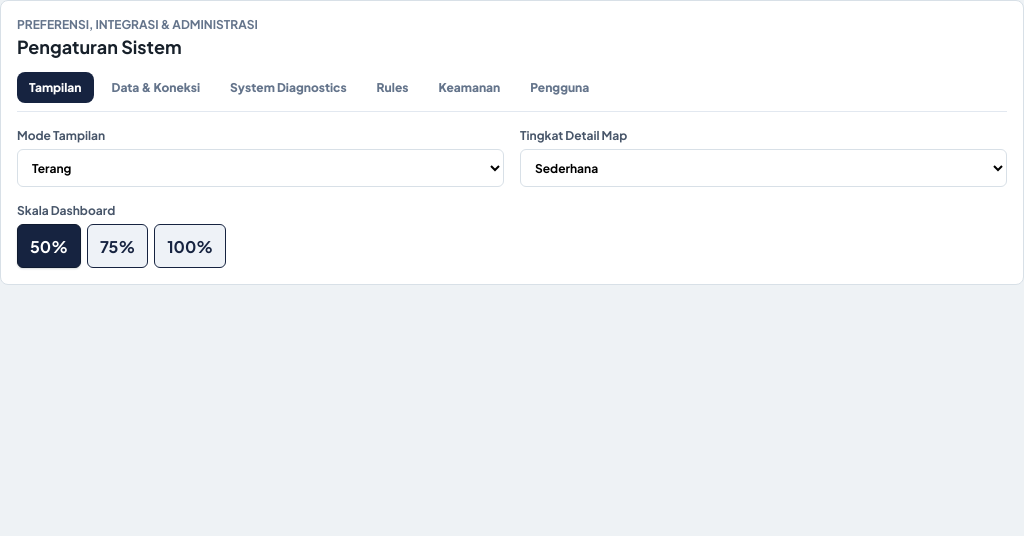
Test: SettingsPanel › shows device sessions and admin audit activity in the security tab
This screenshot has width=1024, height=536.
Click the tab "Keamanan".
click(469, 88)  # box [426,72,512,103]
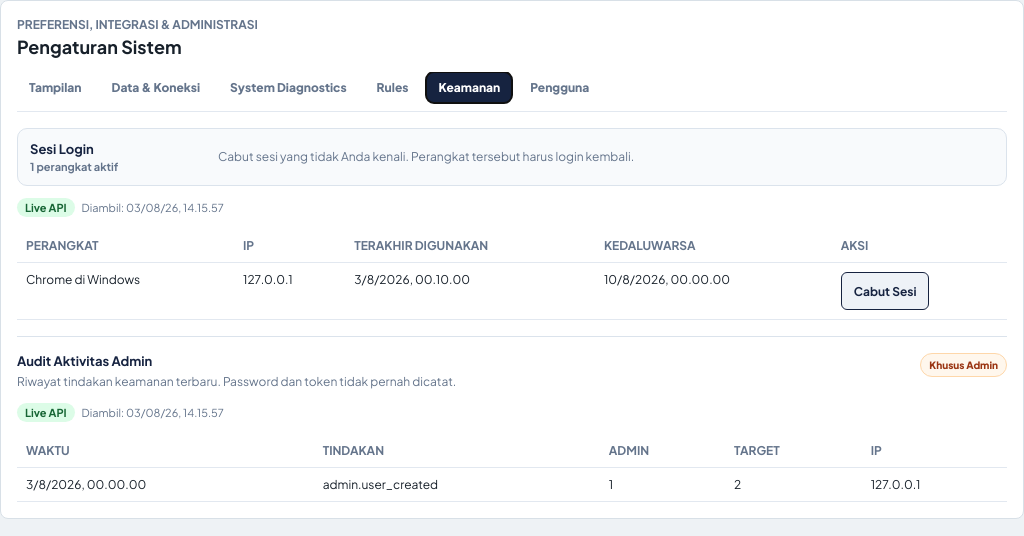
Check: the text "Chrome di Windows" is shown, box [17,262,234,320]
Check: the text "Audit Aktivitas Admin" is shown, box [17,353,152,369]
Check: the text "admin.user_created" is shown, box [314,468,600,502]
